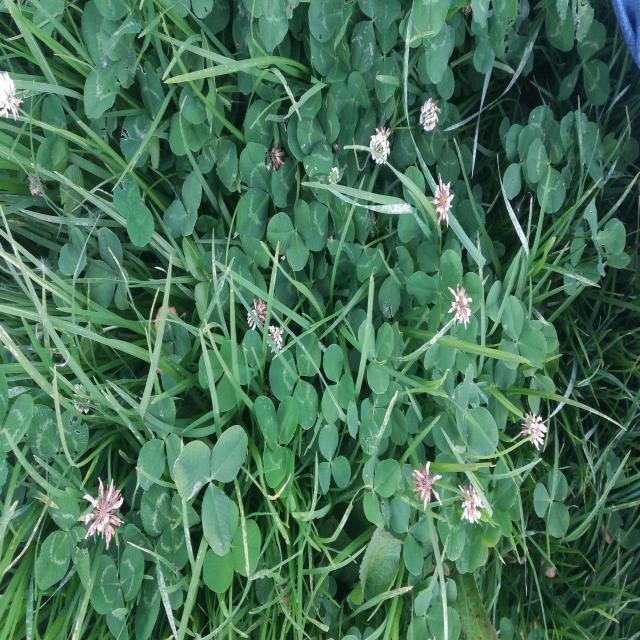Four Leaf Clover: (254, 395, 298, 498)
